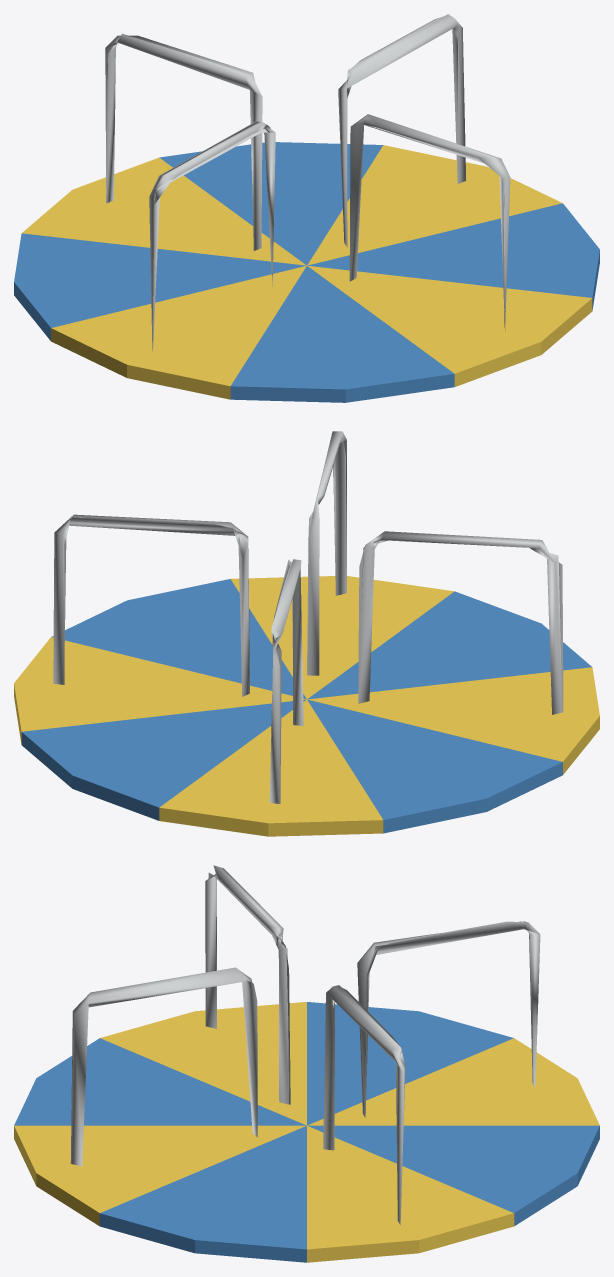
Rendered from playground-roundabout-lod1.glb.
3 renders of one model, top to bottom at view 1: azimuth 30°, elevation 25°; view 2: azimuth 150°, elevation 25°; view 3: azimuth 270°, elevation 25°, orthographic.
Visible parts, largest first — view 1: playground-roundabout.001; view 2: playground-roundabout.001; view 3: playground-roundabout.001.
Boxes of the visible parts, x1=… form: playground-roundabout.001: x1=14, y1=14, x2=599, y2=402; playground-roundabout.001: x1=14, y1=431, x2=599, y2=836; playground-roundabout.001: x1=14, y1=865, x2=599, y2=1262.
Size of the model in its own units: 2 by 0.9649 by 2.
